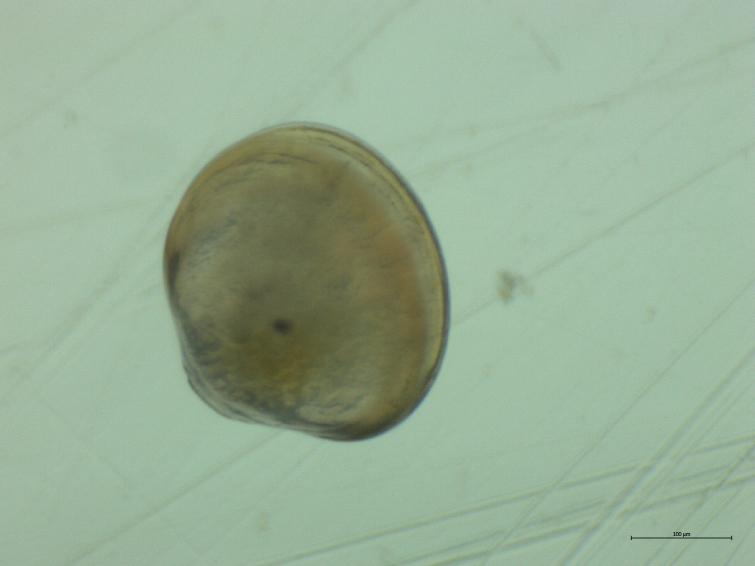oyster: (144, 111, 460, 453)
